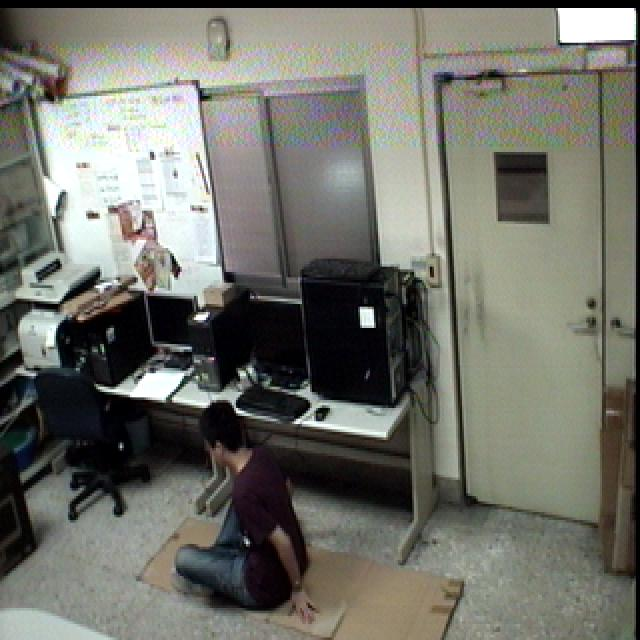sit: (168, 396, 327, 640)
